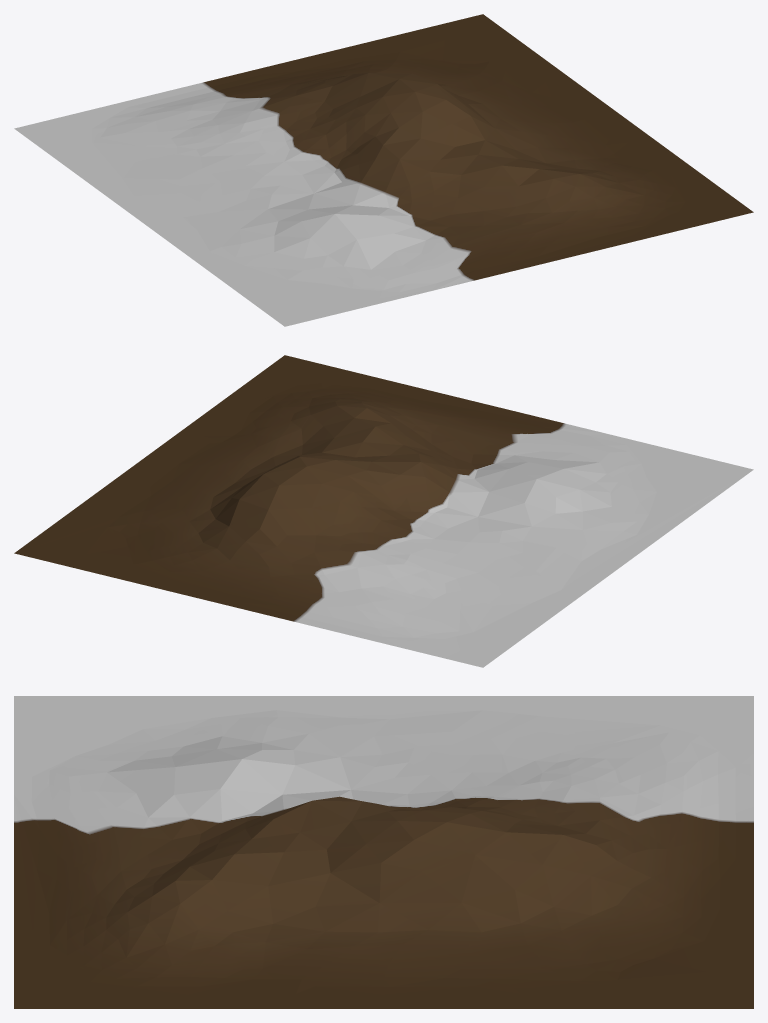
Rendered from Terrain_04.fbx.
3 views of the same model, one above another, from view 1: azimuth 30°, elevation 25°; view 2: azimuth 150°, elevation 25°; view 3: azimuth 270°, elevation 25° (orthographic). The views are drawn at different scales.
Visible parts, largest first — view 1: Terrain_04; view 2: Terrain_04; view 3: Terrain_04.
Boxes of the visible parts, x1,y1,x2,y2 form: Terrain_04: (14,14,753,326); Terrain_04: (14,355,753,667); Terrain_04: (14,696,753,1008).
Bounding box in the file's own units: 128 × 12.92 × 128.
